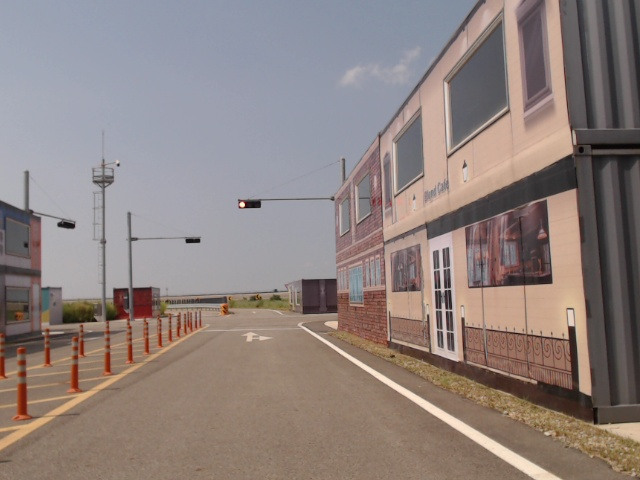red_3: (238, 200, 261, 209)
